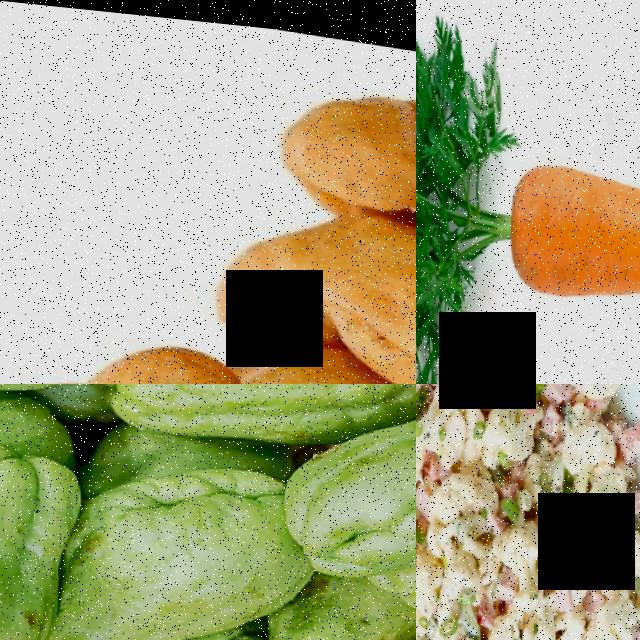carrot: (473, 80, 640, 384)
cashew: (197, 201, 416, 375), (228, 50, 416, 227), (244, 353, 416, 384)
chayote: (261, 384, 416, 622), (65, 454, 258, 640), (99, 384, 360, 468), (0, 428, 70, 640)
